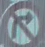Don't turn right: (2, 1, 41, 46)
